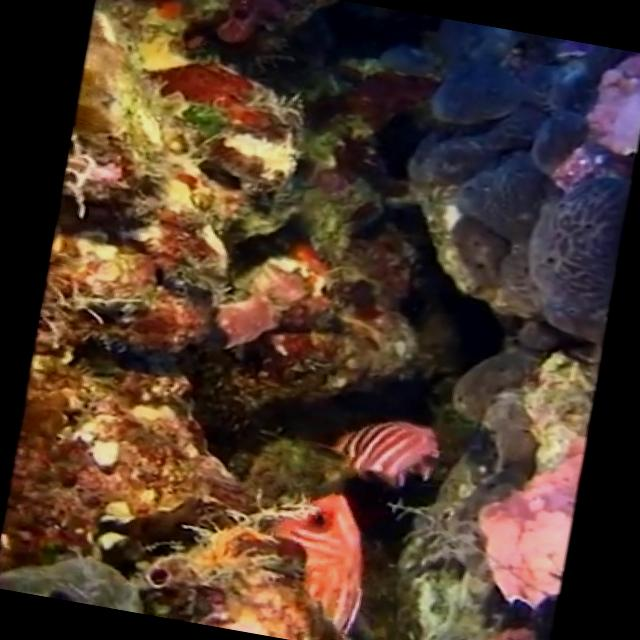Asker Baligi: (330, 402, 446, 501)
